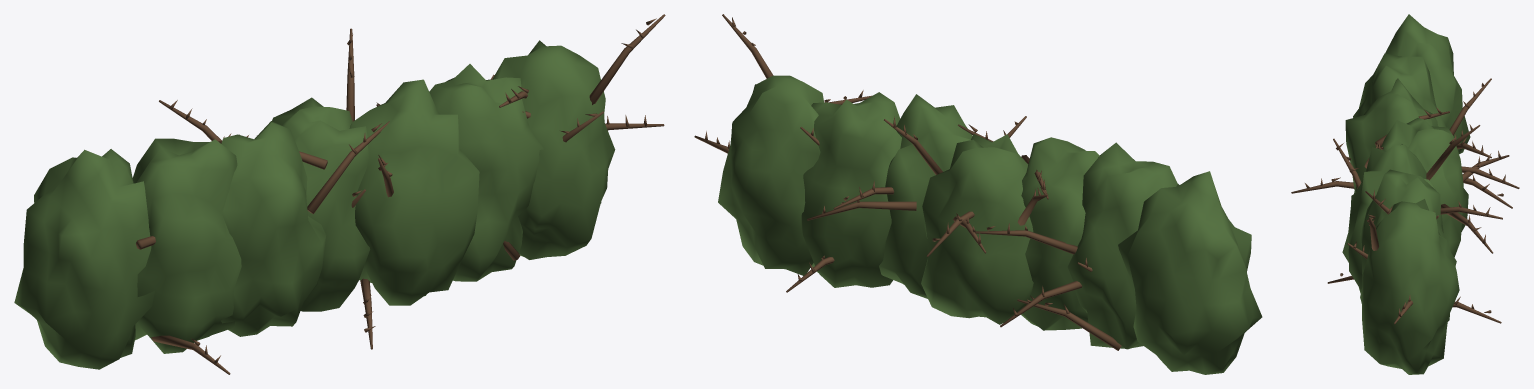
File: fk_thorn_wall.fbx
3 renders of one model, left to right at view 1: azimuth 30°, elevation 25°; view 2: azimuth 150°, elevation 25°; view 3: azimuth 270°, elevation 25°, orthographic. The views are drawn at different scales.
Visible parts, largest first — view 1: fk_thorn_wall; view 2: fk_thorn_wall; view 3: fk_thorn_wall.
Boxes of the visible parts, <box> form: fk_thorn_wall: <box>14,14,665,374</box>; fk_thorn_wall: <box>694,14,1262,374</box>; fk_thorn_wall: <box>1291,14,1519,374</box>.
Bounding box in the file's own units: 1010 × 369 × 399.
